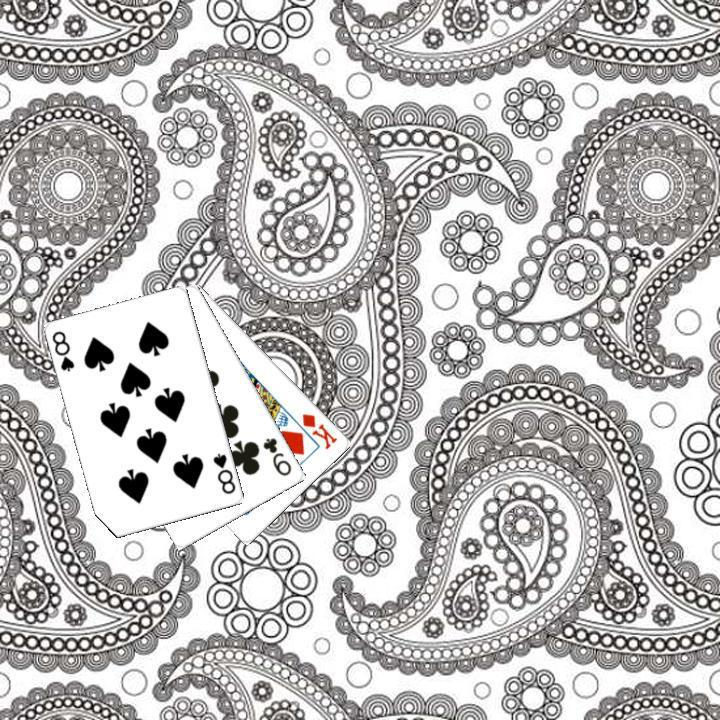8: (209, 449, 238, 496), (48, 327, 77, 374)
9: (259, 433, 294, 478)
K: (298, 409, 339, 451)
